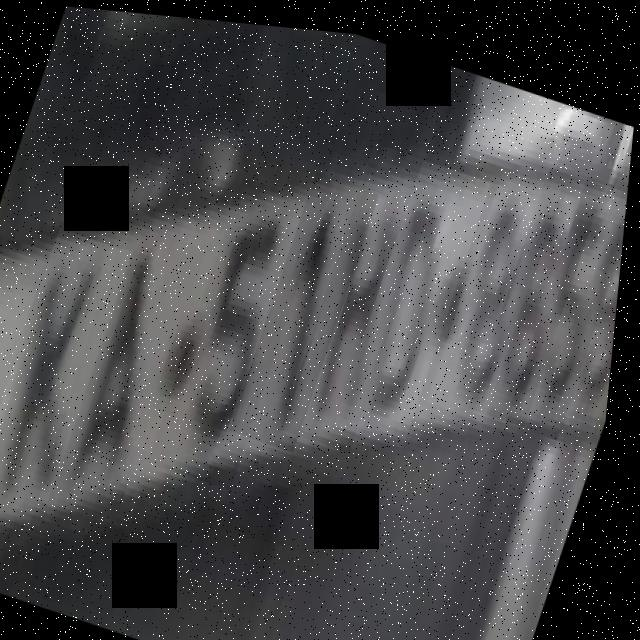1: (269, 178, 353, 435)
5: (187, 190, 303, 468), (538, 172, 621, 420)
6: (496, 167, 585, 404)
8: (458, 171, 544, 403)
9: (576, 172, 631, 403)
A: (70, 233, 174, 488)
D: (368, 164, 465, 426)
H: (312, 169, 416, 430)
K: (0, 242, 111, 509)
